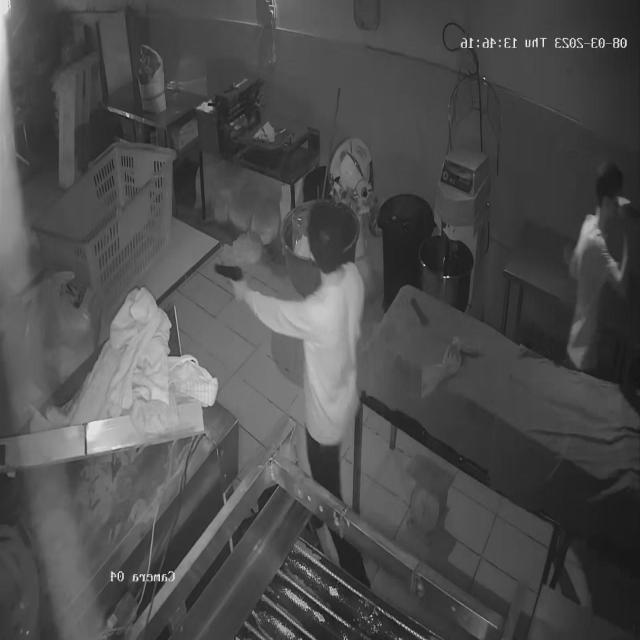Gun: (205, 254, 255, 290)
